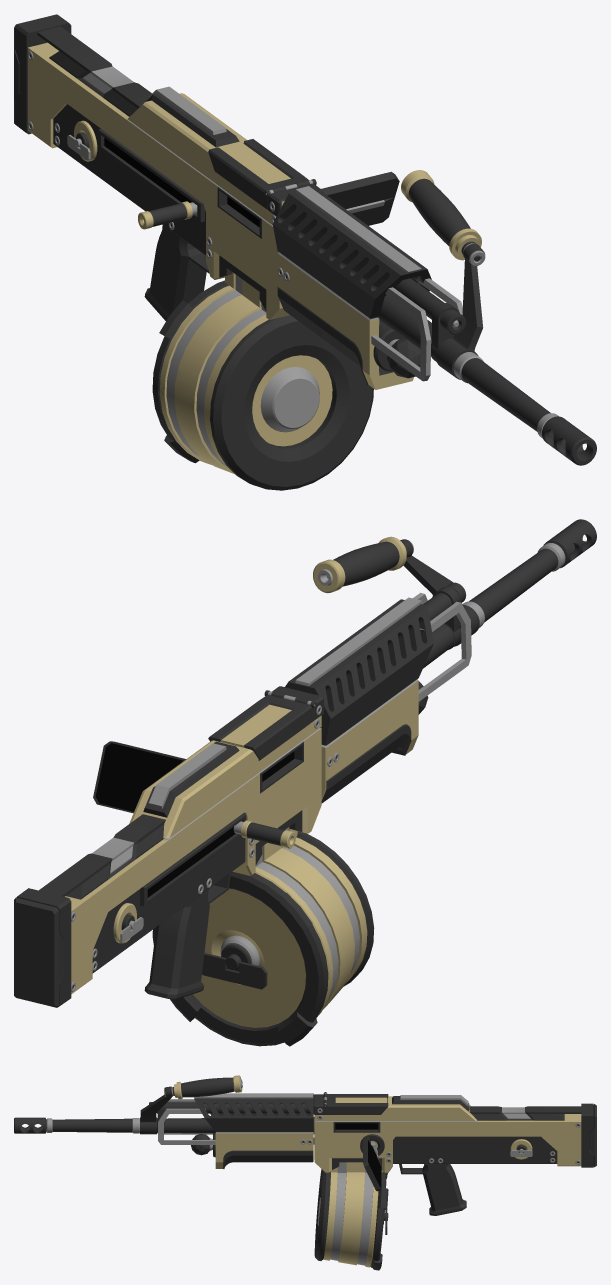
Rendered from SabreLMG.fbx.
The picture shows the model from 3 angles, top to bottom: view 1: azimuth 30°, elevation 25°; view 2: azimuth 150°, elevation 25°; view 3: azimuth 270°, elevation 25°; orthographic projection. The views are drawn at different scales.
Visible parts, largest first — view 1: Cube, Cube.005, Cylinder, Cylinder.007, Cube.008, Cylinder.002; view 2: Cube, Cube.005, Cylinder, Cylinder.007, Cube.008, Cylinder.002; view 3: Cube, Cube.005, Cylinder, Cylinder.007.
Part boxes in pixels (x1,y1,x2,y2): Cube: (14, 14, 462, 389); Cube.005: (152, 272, 373, 490); Cylinder: (373, 170, 596, 465); Cylinder.007: (321, 171, 399, 225); Cube.008: (99, 129, 204, 222); Cylinder.002: (138, 201, 197, 229); Cube: (14, 592, 471, 1007); Cube.005: (152, 827, 374, 1046); Cylinder: (313, 519, 596, 714); Cylinder.007: (93, 741, 185, 813); Cube.008: (140, 813, 246, 906); Cylinder.002: (233, 820, 295, 848); Cube: (158, 1092, 596, 1215); Cube.005: (314, 1162, 388, 1270); Cylinder: (14, 1075, 314, 1157); Cylinder.007: (360, 1134, 384, 1191).
Bounding box in the file's own units: 259 × 401 × 1065.
